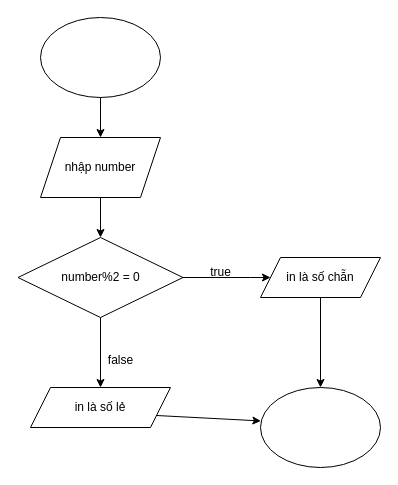
Some shapes in this 398 by 485 pixel diagram are drawn without their labels. Here are the shapes that lost their labels. From the top down, the centre of each, then its label:
At pixel 100 57: "start".
At pixel 320 427: "end".
